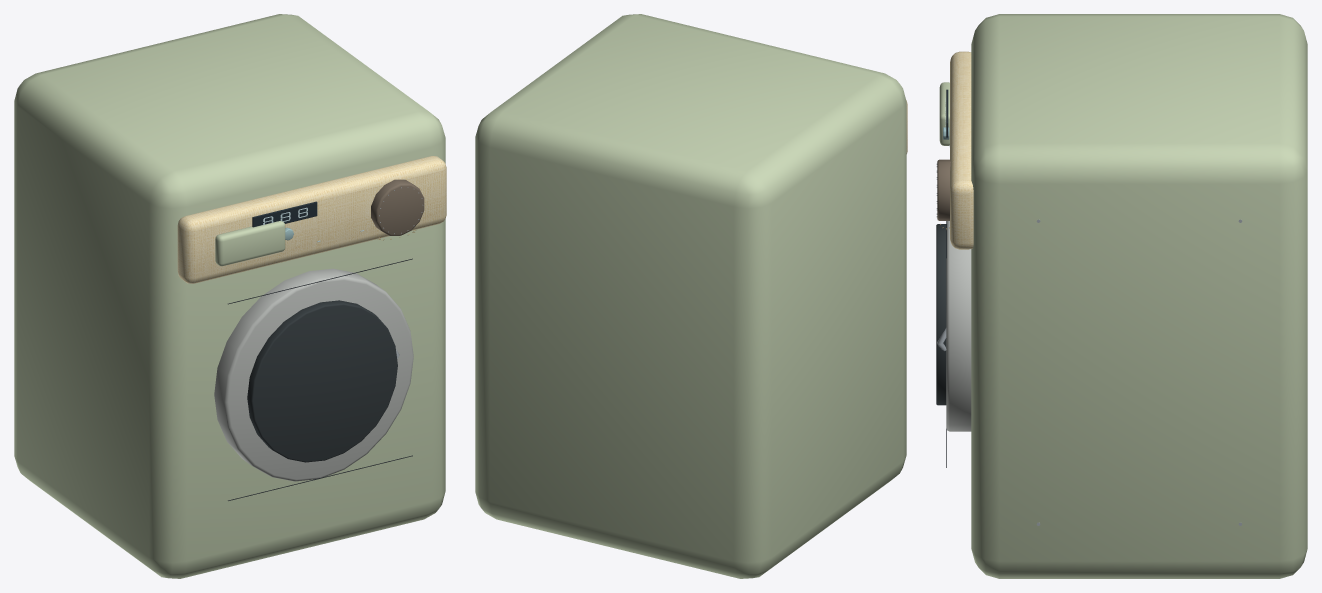
File: washer.glb
3 renders of one model, left to right at view 1: azimuth 30°, elevation 25°; view 2: azimuth 150°, elevation 25°; view 3: azimuth 270°, elevation 25°, orthographic. The views are drawn at different scales.
Visible parts, largest first — view 1: washer; view 2: washer; view 3: washer.
Part boxes in pixels (box(x1,y1,x2,y2)): washer: box(14, 14, 446, 578); washer: box(475, 14, 907, 578); washer: box(936, 14, 1307, 578).
Size of the model in its own units: 0.68 by 0.9 by 0.7.
11 materials, 1 textured.
